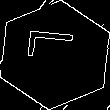L_E: (26, 37, 84, 73)
